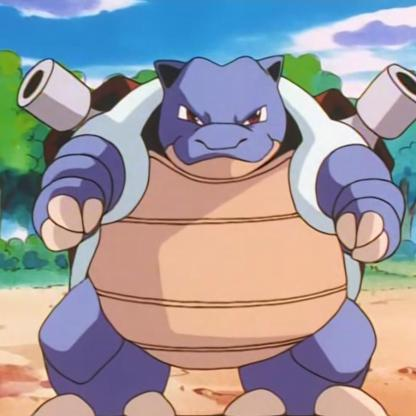Blastoise: (18, 16, 416, 416)
